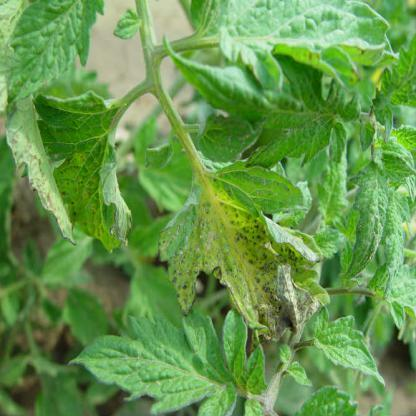Tomato leaf late blight: (158, 146, 344, 350), (6, 66, 142, 282), (70, 296, 278, 414)
